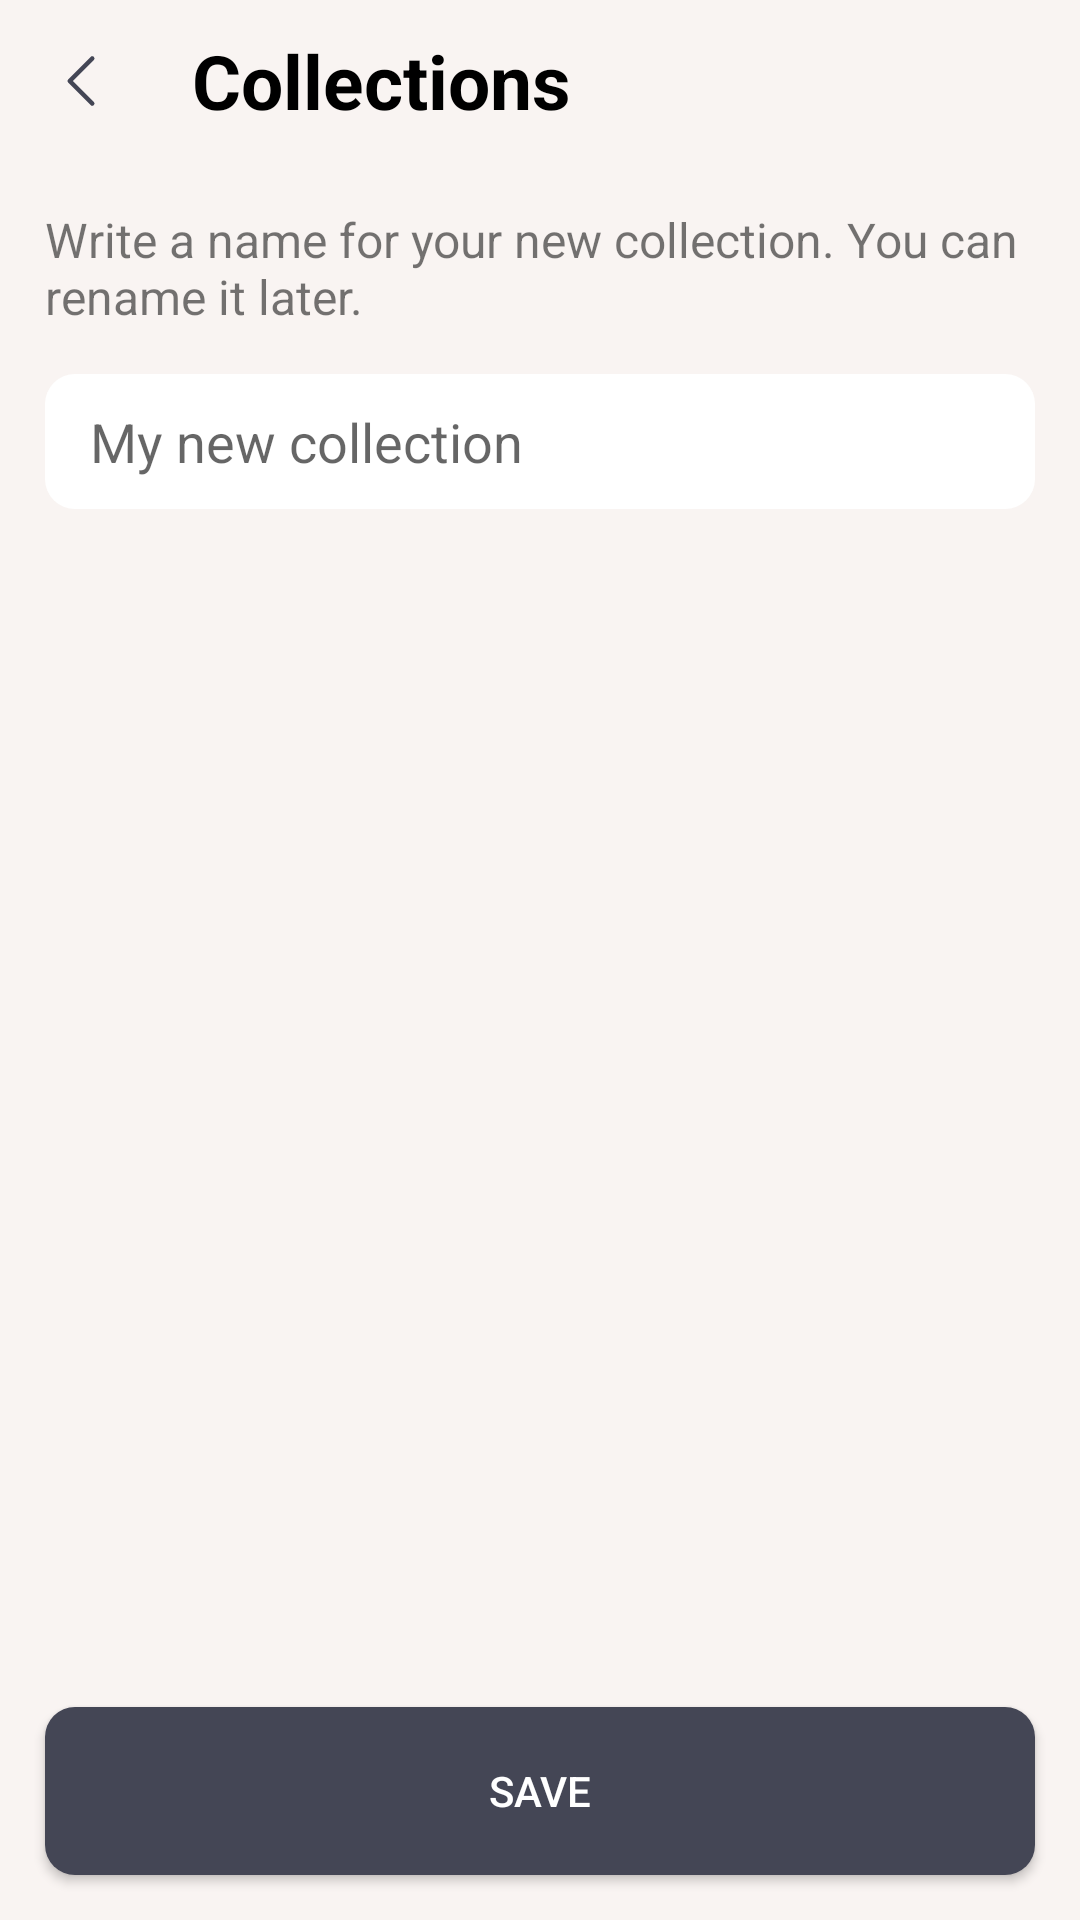

Icons on this 1080*1920 Android screen, each with the point to tap as (x,y):
back: (81,81)
